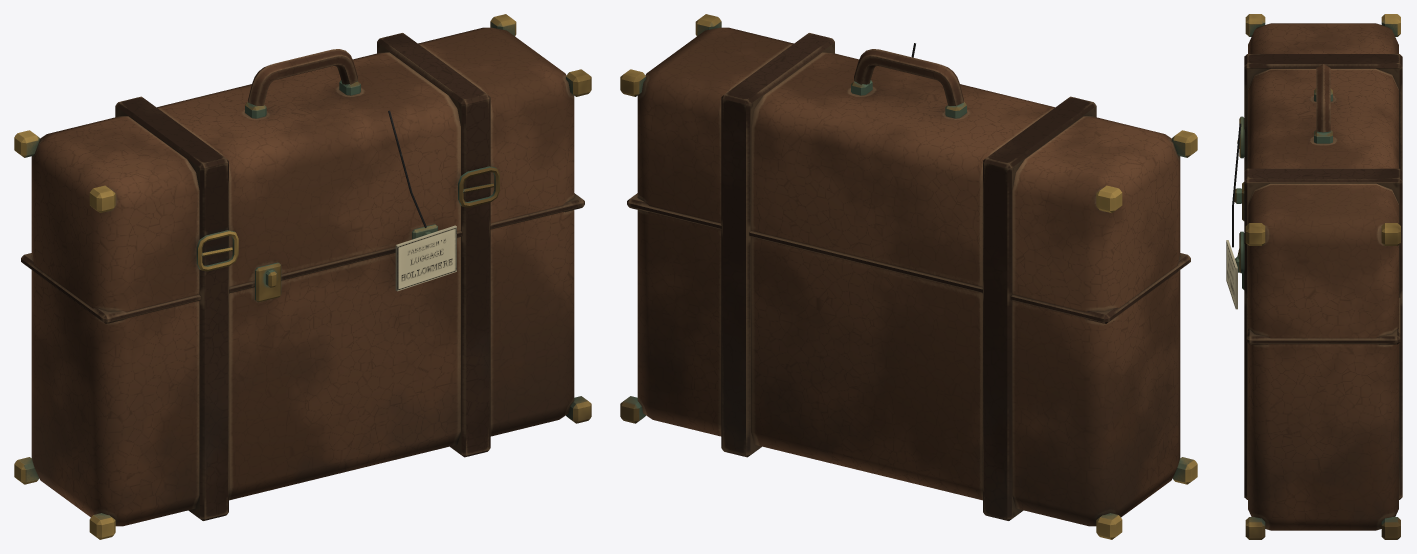
Rendered from SuitcaseLeather.fbx.
3 views of the same model, side by side, from view 1: azimuth 30°, elevation 25°; view 2: azimuth 150°, elevation 25°; view 3: azimuth 270°, elevation 25° (orthographic). The views are drawn at different scales.
Visible parts, largest first — view 1: SuitcaseLeather; view 2: SuitcaseLeather; view 3: SuitcaseLeather.
Boxes of the visible parts, left/top/right/bottom form: SuitcaseLeather: left=14, top=14, right=591, bottom=539; SuitcaseLeather: left=620, top=14, right=1197, bottom=539; SuitcaseLeather: left=1226, top=14, right=1402, bottom=539.
Bounding box in the file's own units: 2.05 × 1.57 × 0.7012.
Materials: 1 (1 with a texture image).
